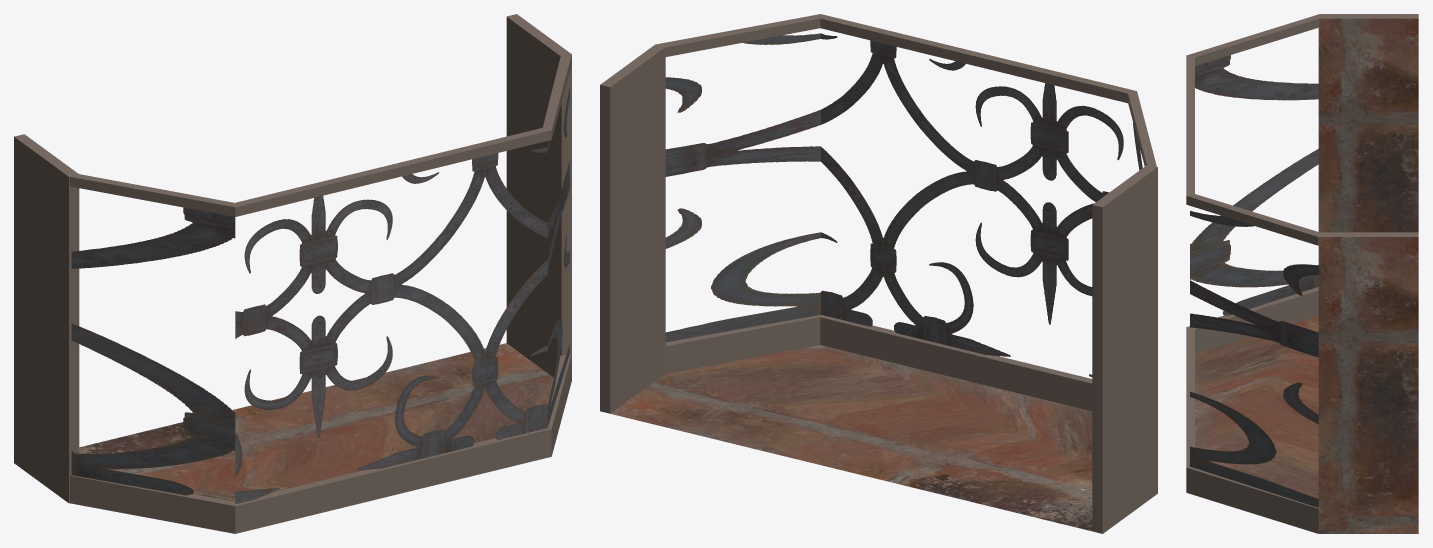
Rendered from BalconyHotel.fbx.
3 views of the same model, side by side, from view 1: azimuth 30°, elevation 25°; view 2: azimuth 150°, elevation 25°; view 3: azimuth 270°, elevation 25° (orthographic). The views are drawn at different scales.
Visible parts, largest first — view 1: Cube.001, Cube; view 2: Cube.001, Cube; view 3: Cube.001, Cube.
Part boxes in pixels (bbox=[...]): Cube.001: bbox=[14, 14, 571, 503]; Cube: bbox=[70, 54, 571, 533]; Cube.001: bbox=[600, 44, 1157, 533]; Cube: bbox=[655, 14, 1156, 411]; Cube.001: bbox=[1195, 14, 1418, 533]; Cube: bbox=[1186, 14, 1319, 533].
Bounding box in the file's own units: 322 × 200 × 142.
